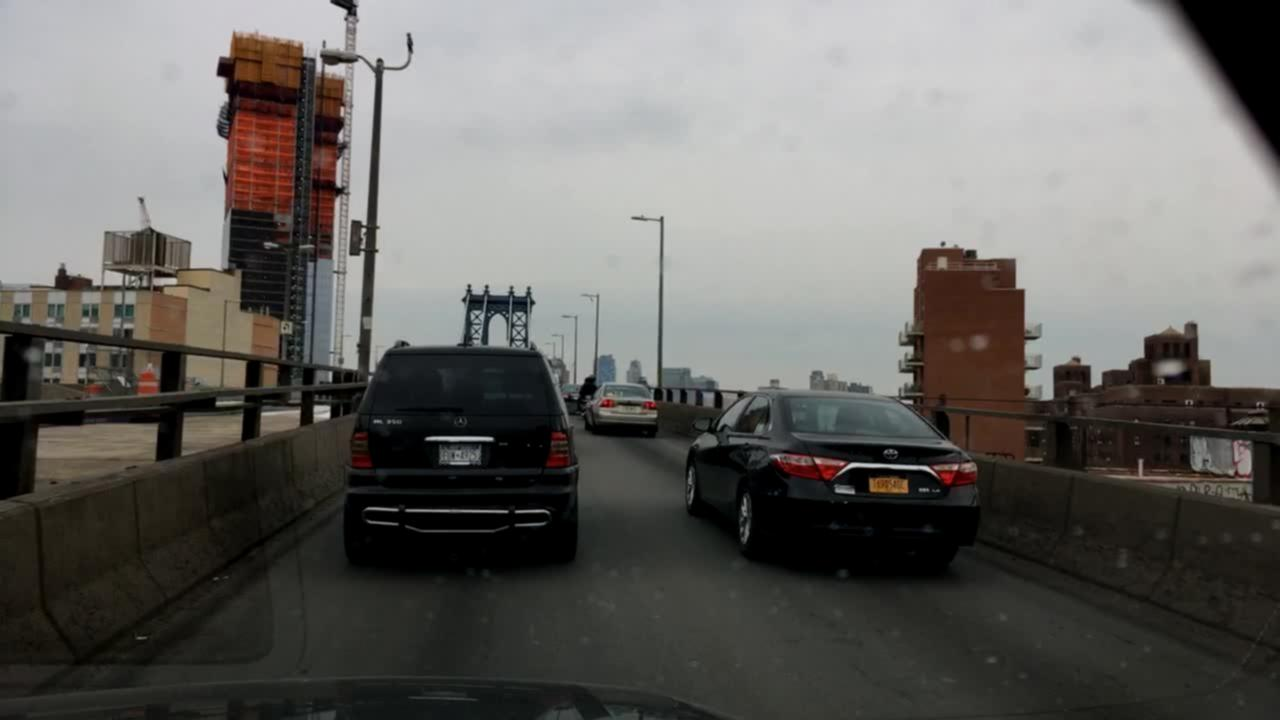Mercedes: (452, 414, 469, 430)
Toyota: (881, 446, 900, 461)
